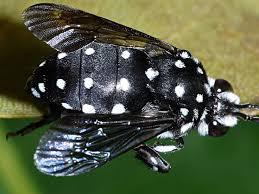Thyreus: (15, 2, 259, 181)
